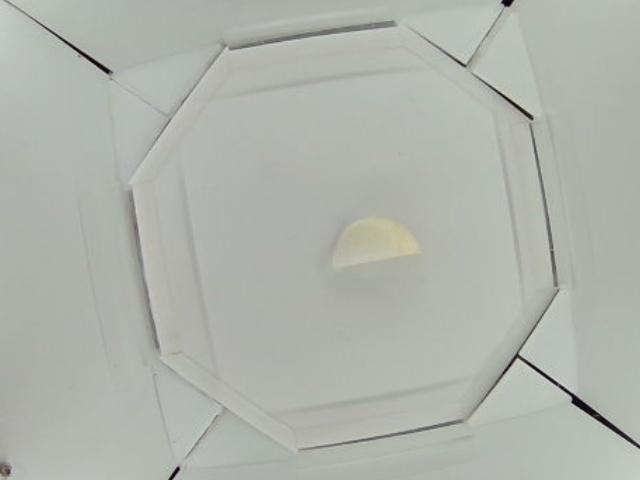Mooli: (331, 216, 418, 268)
